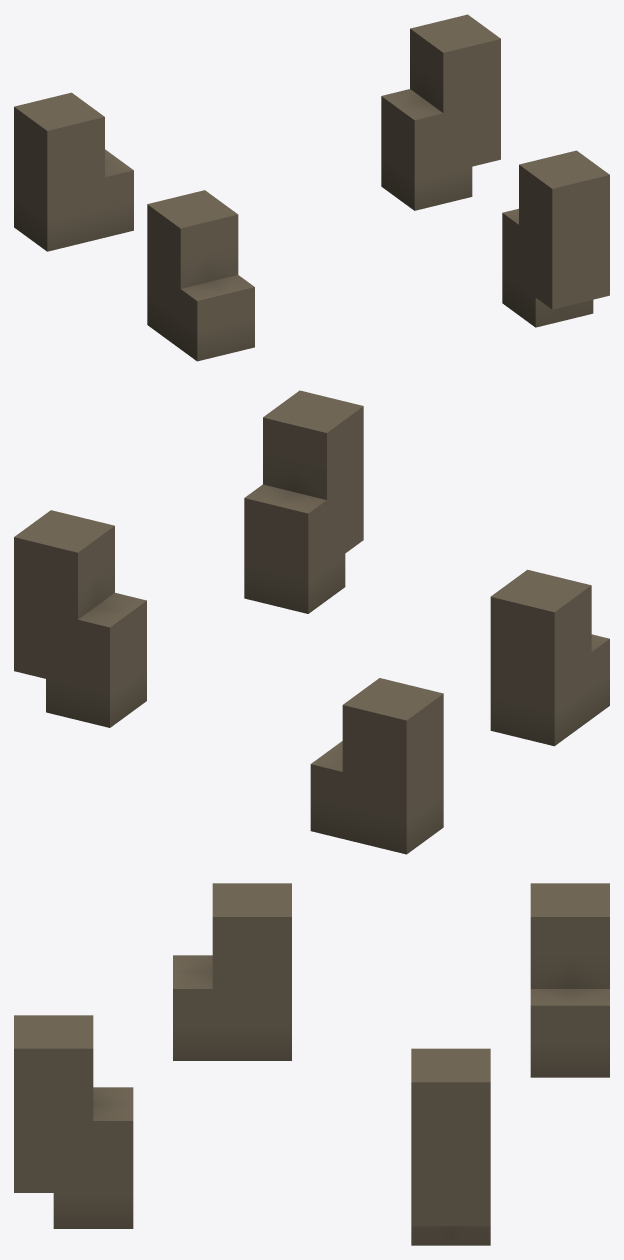
Rendered from flowers_2_winter.glb.
3 views of the same model, one above another, from view 1: azimuth 30°, elevation 25°; view 2: azimuth 150°, elevation 25°; view 3: azimuth 270°, elevation 25° (orthographic). The views are drawn at different scales.
Visible parts, largest first — view 1: VoxelVisual; view 2: VoxelVisual; view 3: VoxelVisual.
Boxes of the visible parts, x1,y1,x2,y2 form: VoxelVisual: [14, 14, 609, 361]; VoxelVisual: [14, 390, 609, 854]; VoxelVisual: [14, 883, 609, 1245].
Size of what is drawn, in the model's own units: 0.875 by 0.3125 by 0.9375.
